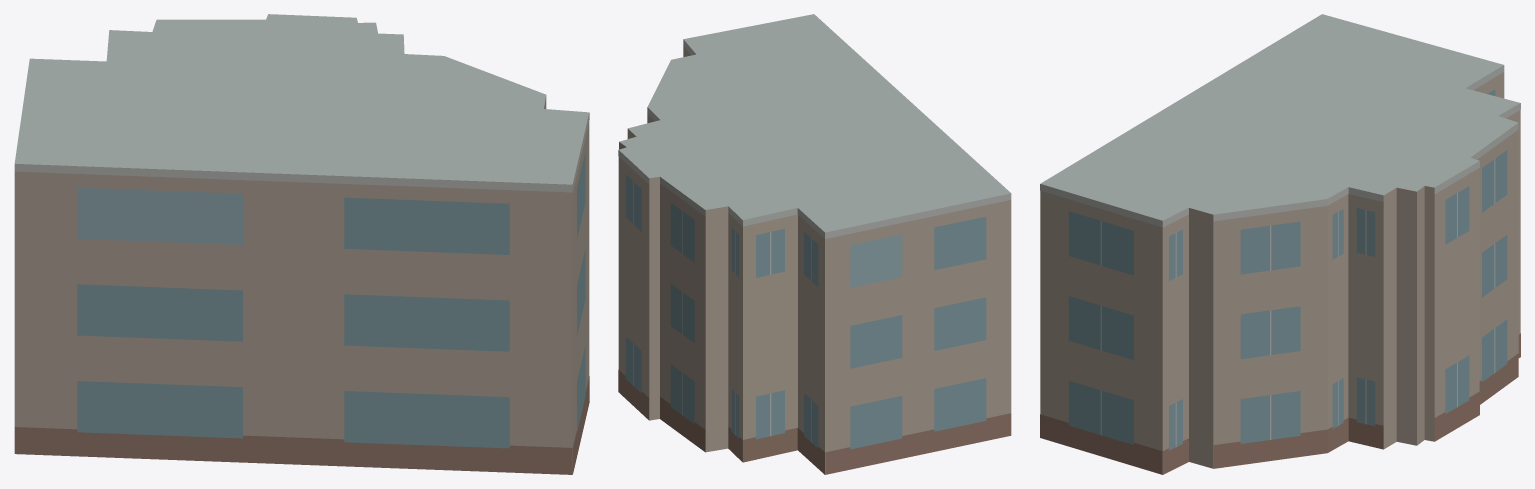
File: survey-upis-32893534.glb
3 renders of one model, left to right at view 1: azimuth 30°, elevation 25°; view 2: azimuth 150°, elevation 25°; view 3: azimuth 270°, elevation 25°, orthographic. The views are drawn at different scales.
Parts seen in each view (by area): view 1: survey-upis-32893534.tmp; view 2: survey-upis-32893534.tmp; view 3: survey-upis-32893534.tmp.
Part boxes in pixels (x1,y1,x2,y2): survey-upis-32893534.tmp: [14, 14, 589, 474]; survey-upis-32893534.tmp: [618, 14, 1011, 474]; survey-upis-32893534.tmp: [1040, 14, 1520, 474].
Size of the model in its own units: 15.98 by 9.15 by 15.69.
